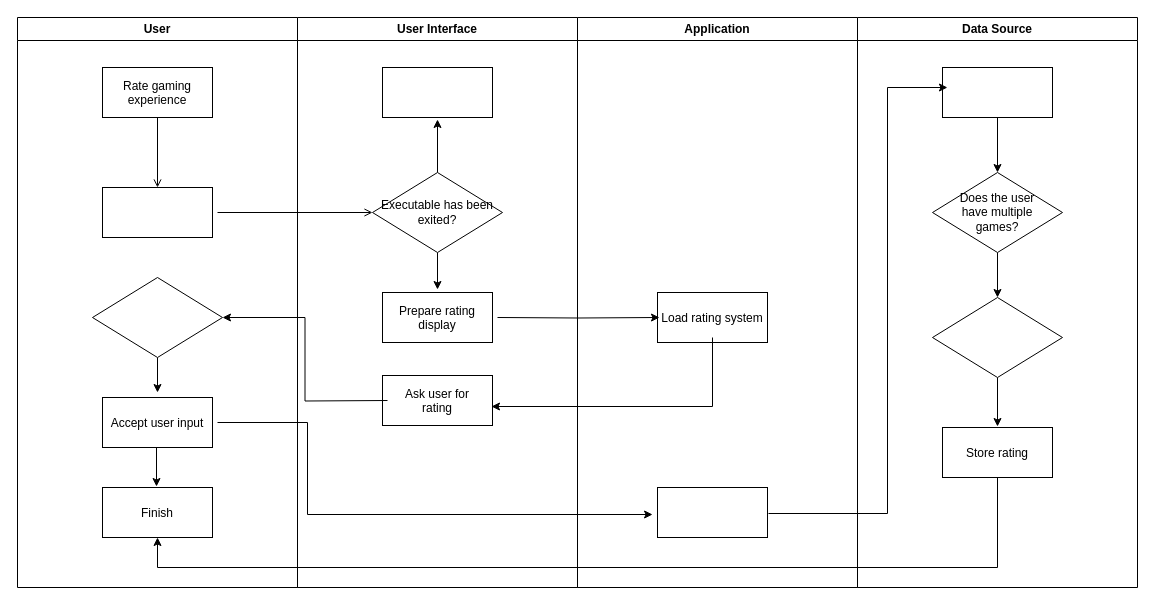
Image size: 1155x605. Some labels were removed from this diagram. Here are the shapes that lost their labels. From the top down, the centre of each, then its label:
[437,92]: Don't display Discord pop-up
[997,92]: Access data structure for holding ratings
[157,212]: Exit game
[157,317]: "How would you rate your gaming experience?"
[997,337]: Does the user have multiple ratings?
[712,512]: Send data to storage file
